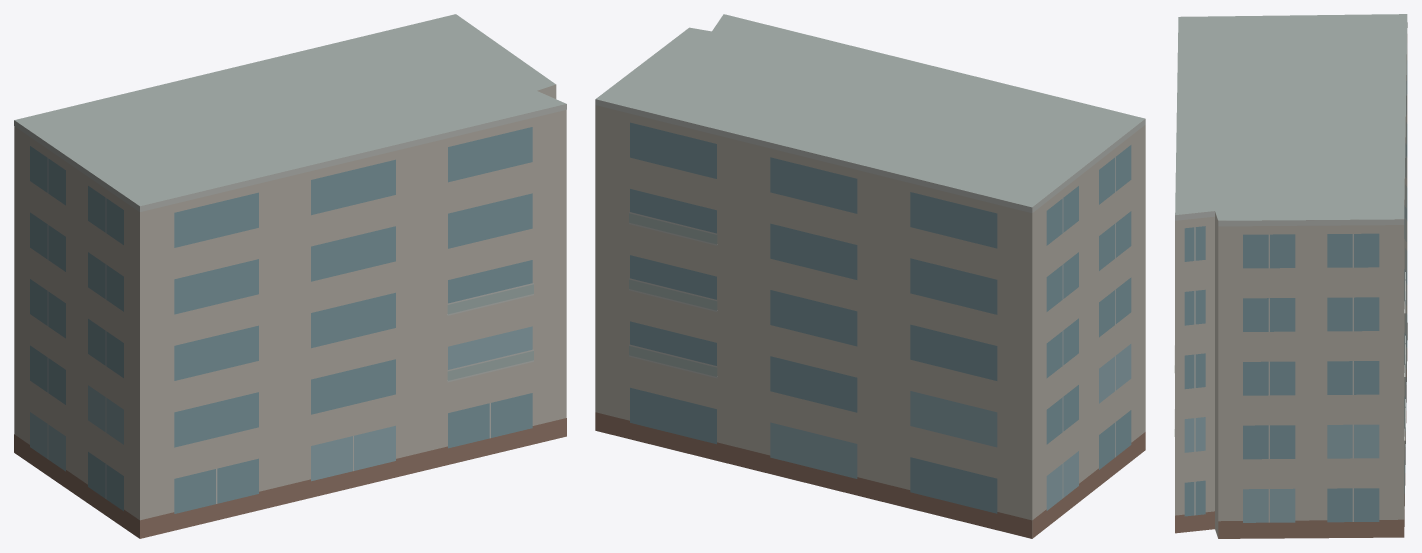
File: survey-upis-32607068.glb
3 views of the same model, side by side, from view 1: azimuth 30°, elevation 25°; view 2: azimuth 150°, elevation 25°; view 3: azimuth 270°, elevation 25° (orthographic). The views are drawn at different scales.
Visible parts, largest first — view 1: survey-upis-32607068.tmp; view 2: survey-upis-32607068.tmp; view 3: survey-upis-32607068.tmp.
Part boxes in pixels (bbox=[...]): survey-upis-32607068.tmp: bbox=[14, 14, 566, 538]; survey-upis-32607068.tmp: bbox=[595, 14, 1145, 538]; survey-upis-32607068.tmp: bbox=[1174, 14, 1407, 538].
Bounding box in the file's own units: 19.25 × 13.8 × 9.17.
